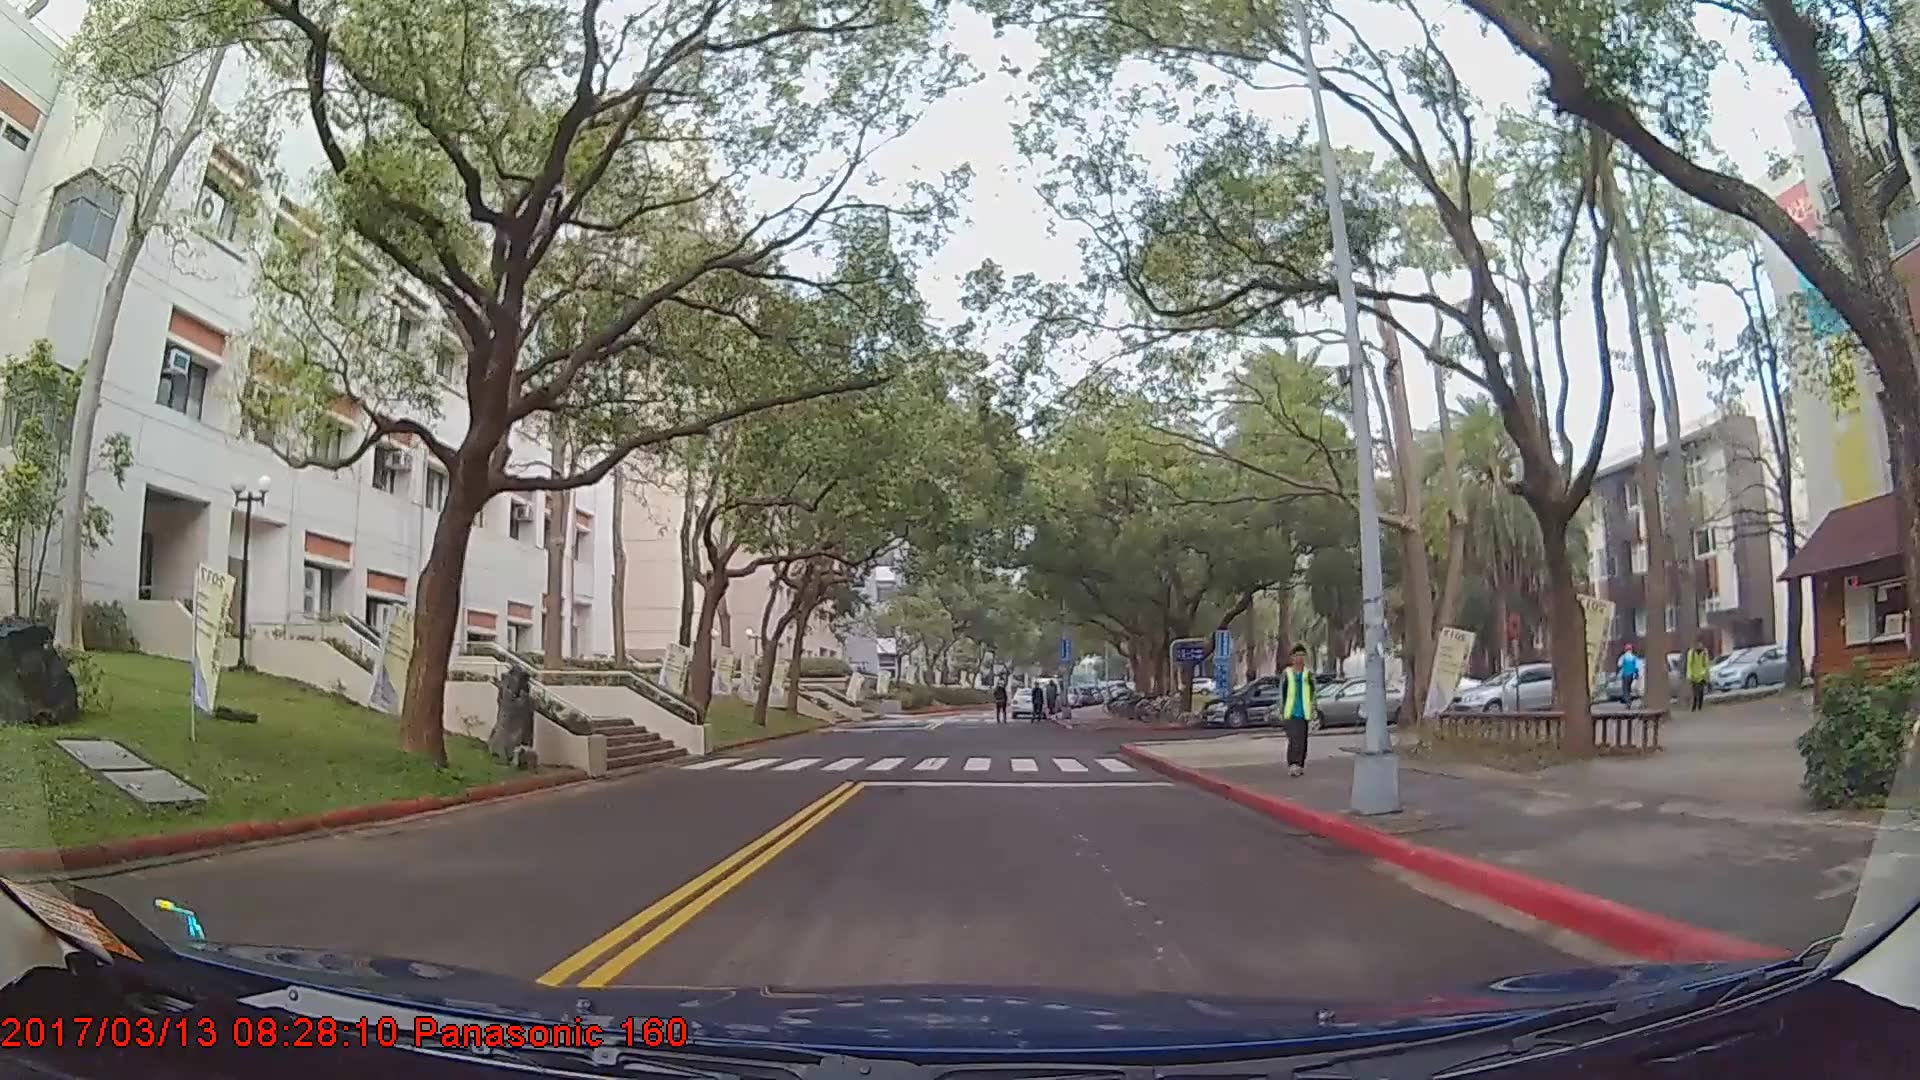pedestrian: (1280, 649, 1324, 783), (1619, 639, 1649, 719), (1686, 640, 1711, 716), (1028, 680, 1048, 725)
vehicle: (1291, 672, 1423, 730), (1447, 663, 1580, 720), (1204, 673, 1326, 728), (1711, 644, 1799, 691)
